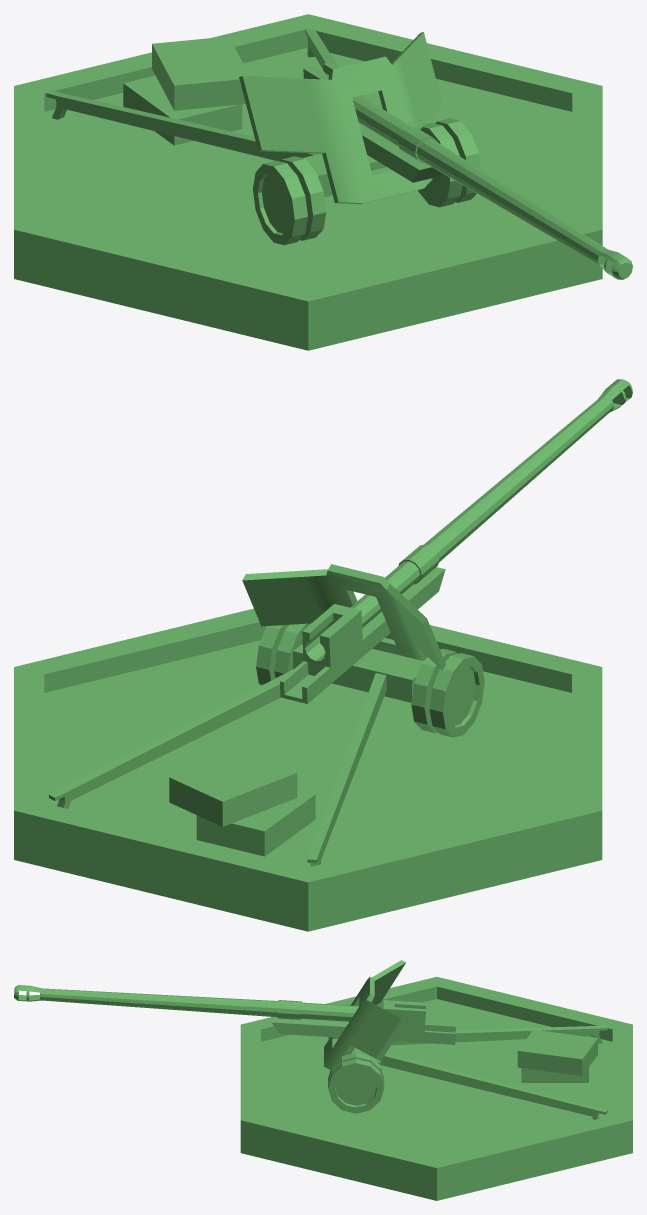
The picture shows the model from 3 angles, top to bottom: view 1: azimuth 30°, elevation 25°; view 2: azimuth 150°, elevation 25°; view 3: azimuth 270°, elevation 25°; orthographic projection. The views are drawn at different scales.
Parts seen in each view (by area): view 1: polySurface16; view 2: polySurface16; view 3: polySurface16.
Part boxes in pixels (left/top/right/bottom): polySurface16: left=14, top=14, right=632, bottom=350; polySurface16: left=14, top=379, right=632, bottom=931; polySurface16: left=14, top=960, right=632, bottom=1200.
Bounding box in the file's own units: 23.4 × 6.87 × 31.98.
